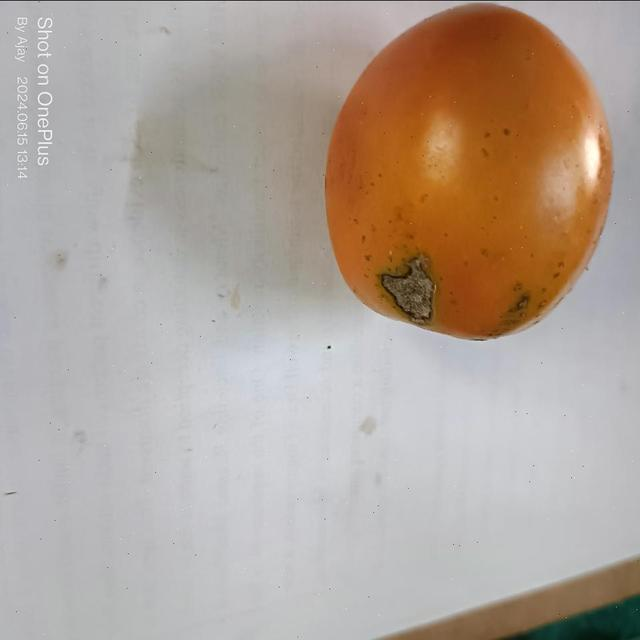Bacterial Spot Fruit: (28, 29, 349, 202)
